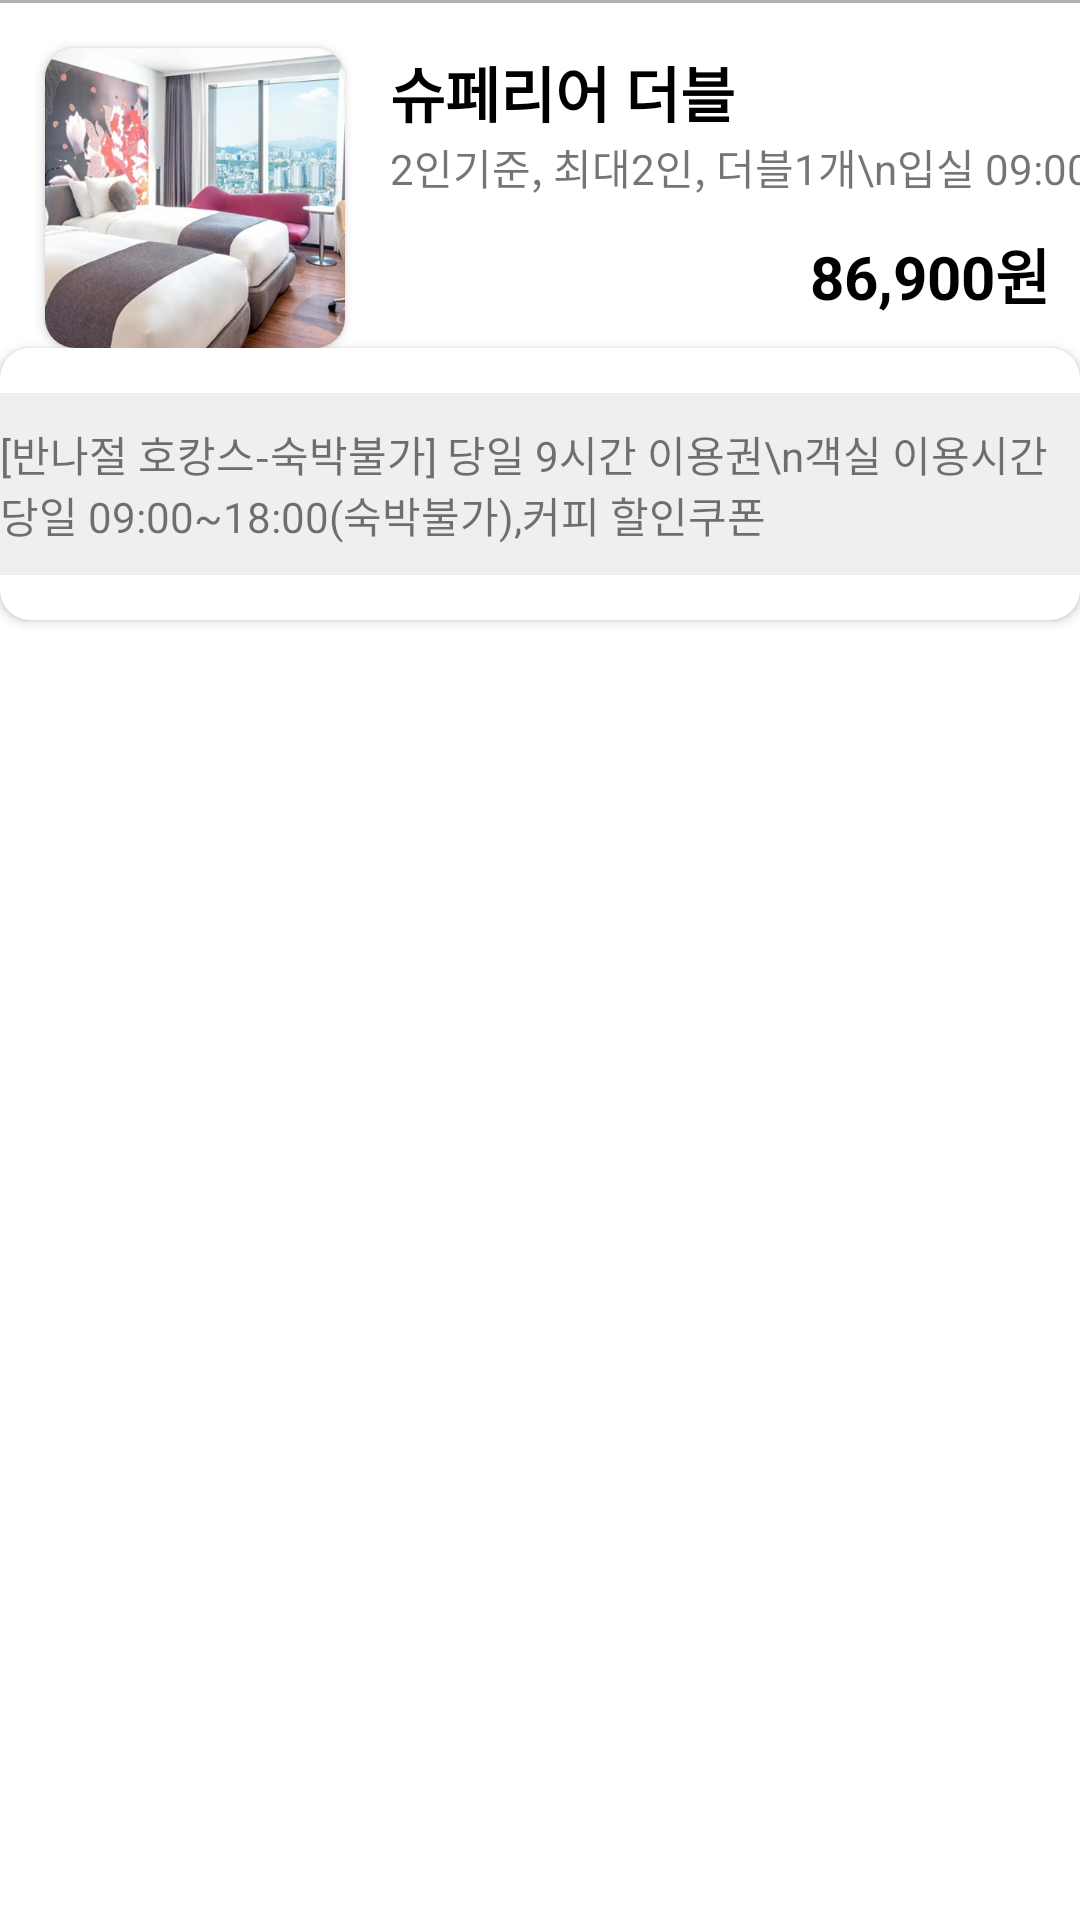

Icons on this 1080px x 1920px Android screen, each with the point to tap as [x,y]:
hotel detail room list: [195,200]
